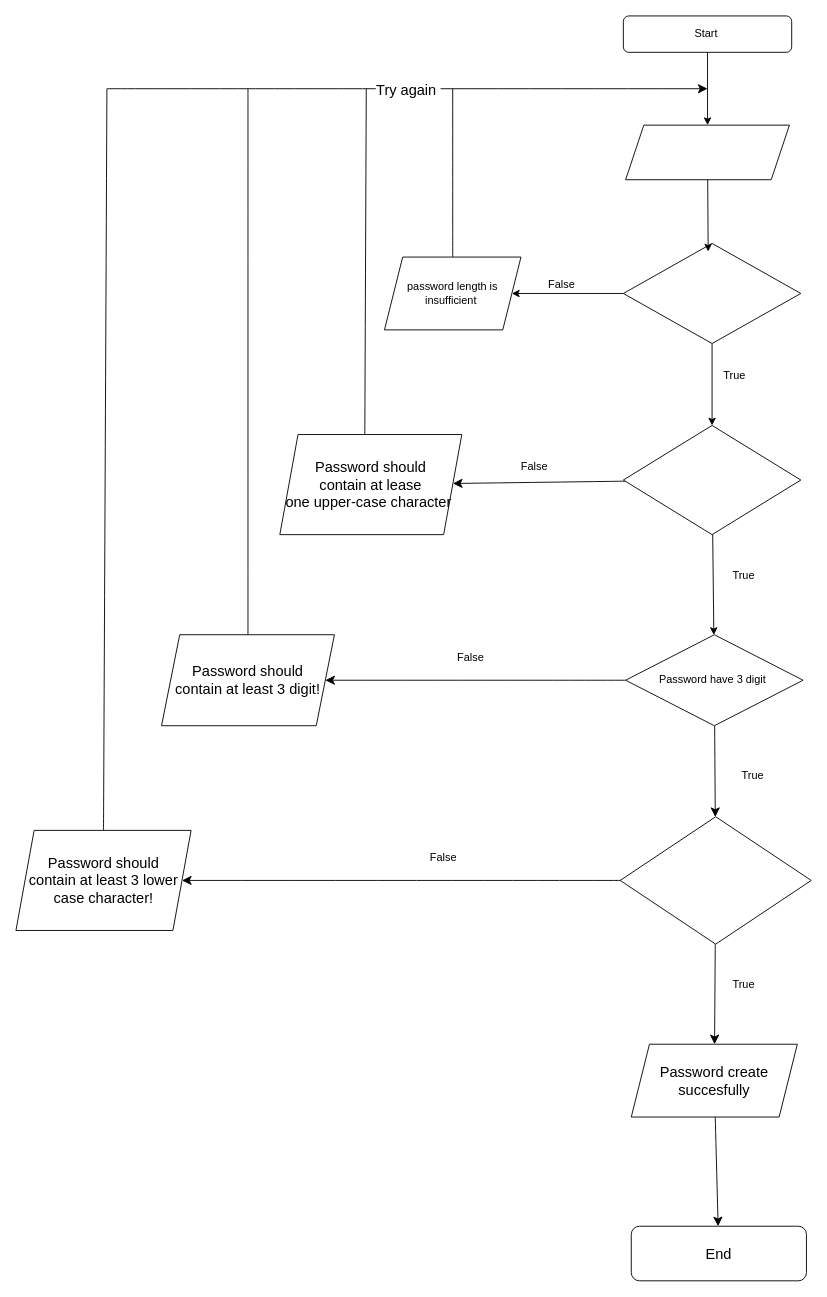
The diagram is 827 pixels wide and 1297 high, and some of its shapes have lost their labels. Each missing label, with the box of its shape:
input password: (625, 124, 789, 180)
Password have 3 lower-case character: (619, 816, 811, 944)
Password have at 1 uppercase character: (622, 425, 801, 535)
Password is 8 character long: (622, 243, 801, 344)
